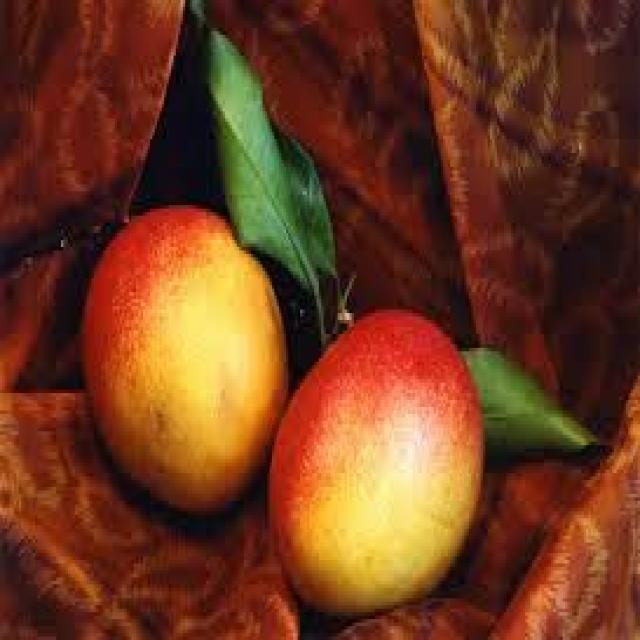Mango: (268, 306, 486, 612), (78, 202, 284, 516)
